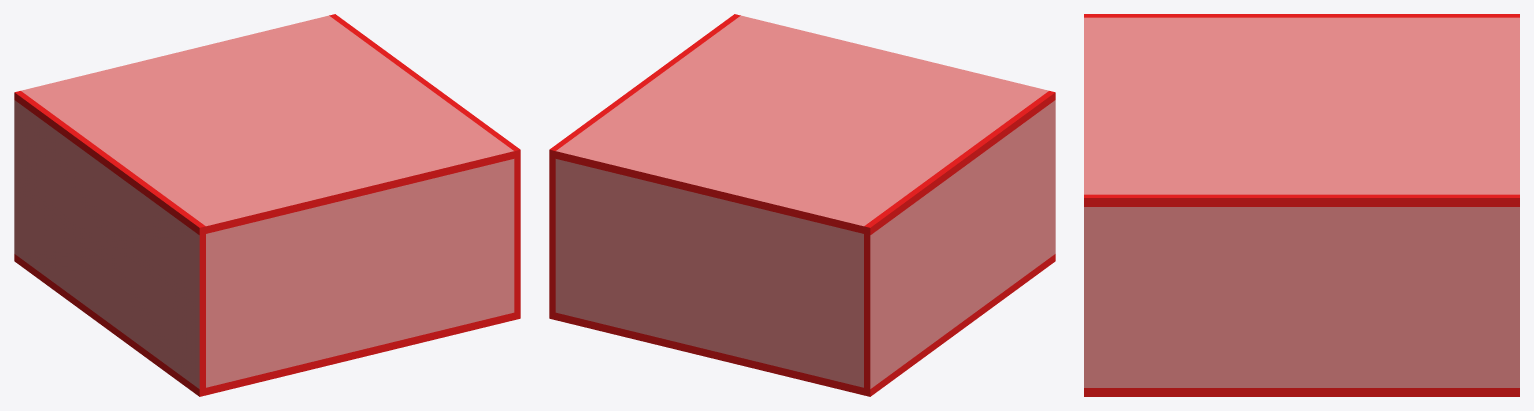
File: mesa3.FBX
3 renders of one model, left to right at view 1: azimuth 30°, elevation 25°; view 2: azimuth 150°, elevation 25°; view 3: azimuth 270°, elevation 25°, orthographic. The views are drawn at different scales.
Visible parts, largest first — view 1: mesa; view 2: mesa; view 3: mesa.
Boxes of the visible parts, x1,y1,x2,y2 form: mesa: (14, 14, 520, 396); mesa: (549, 14, 1055, 396); mesa: (1084, 14, 1519, 396).
Size of the model in its own units: 100 by 50.36 by 100.
